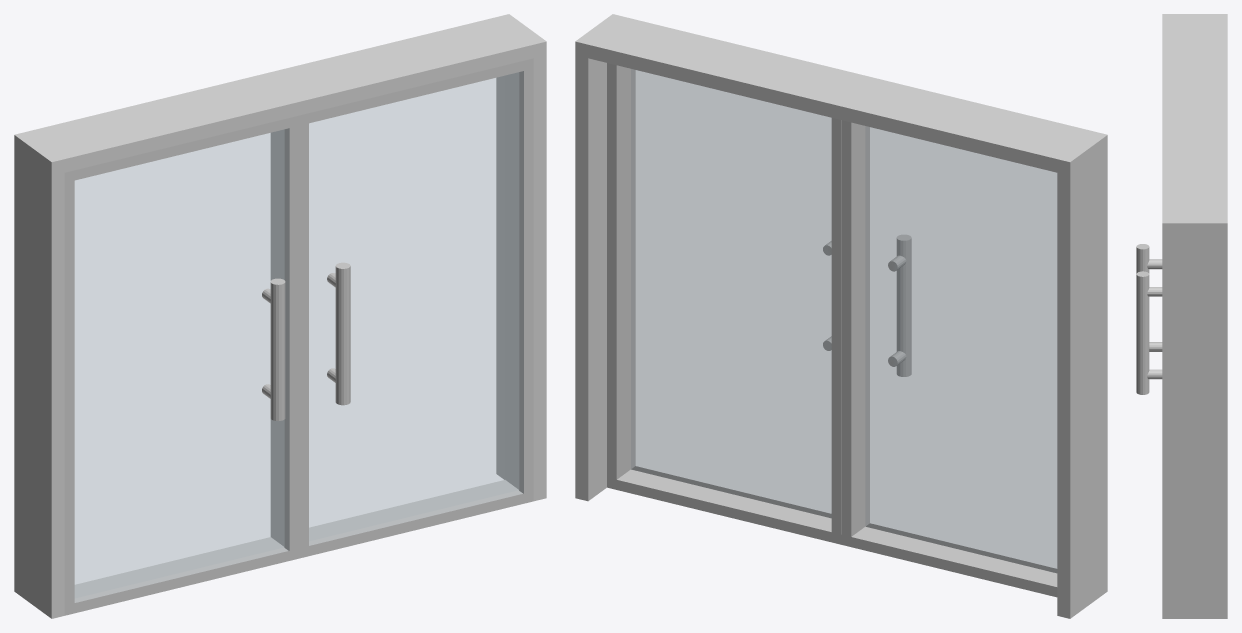
Rendered from glass_double_door.glb.
3 views of the same model, side by side, from view 1: azimuth 30°, elevation 25°; view 2: azimuth 150°, elevation 25°; view 3: azimuth 270°, elevation 25° (orthographic). The views are drawn at different scales.
Visible parts, largest first — view 1: Door, Door.001, Frame, Frame.001; view 2: Door.001, Door, Frame, Frame.001; view 3: Frame.001, Frame, Door.001, Door.
Part boxes in pixels (<box>): Door: <box>64,115,299,615</box>; Door.001: <box>285,58,533,558</box>; Frame: <box>14,74,299,618</box>; Frame.001: <box>262,14,546,501</box>; Door.001: <box>607,63,841,544</box>; Door: <box>841,120,1057,597</box>; Frame: <box>822,74,1107,618</box>; Frame.001: <box>575,14,859,501</box>; Frame.001: <box>1162,118,1227,618</box>; Frame: <box>1162,14,1227,118</box>; Door.001: <box>1136,271,1162,394</box>; Door: <box>1136,244,1162,351</box>.
Bounding box in the file's own units: 3.8 × 3.35 × 0.7.
